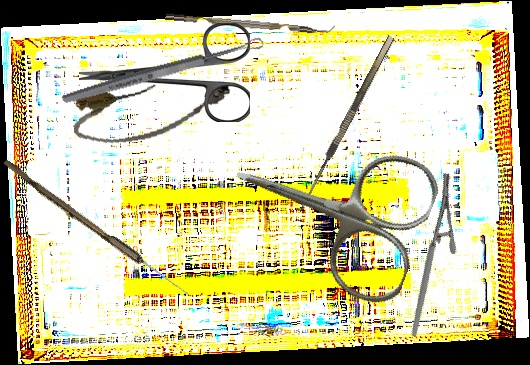Cannula: (68, 70, 236, 152)
Chopper: (165, 4, 336, 38)
Hook Surgical: (295, 35, 405, 218)
Iris Scissors: (211, 102, 446, 312), (79, 23, 250, 122)
Needle Holder: (362, 170, 498, 338)
Surgical Spoon: (0, 159, 192, 298), (60, 35, 266, 107)
